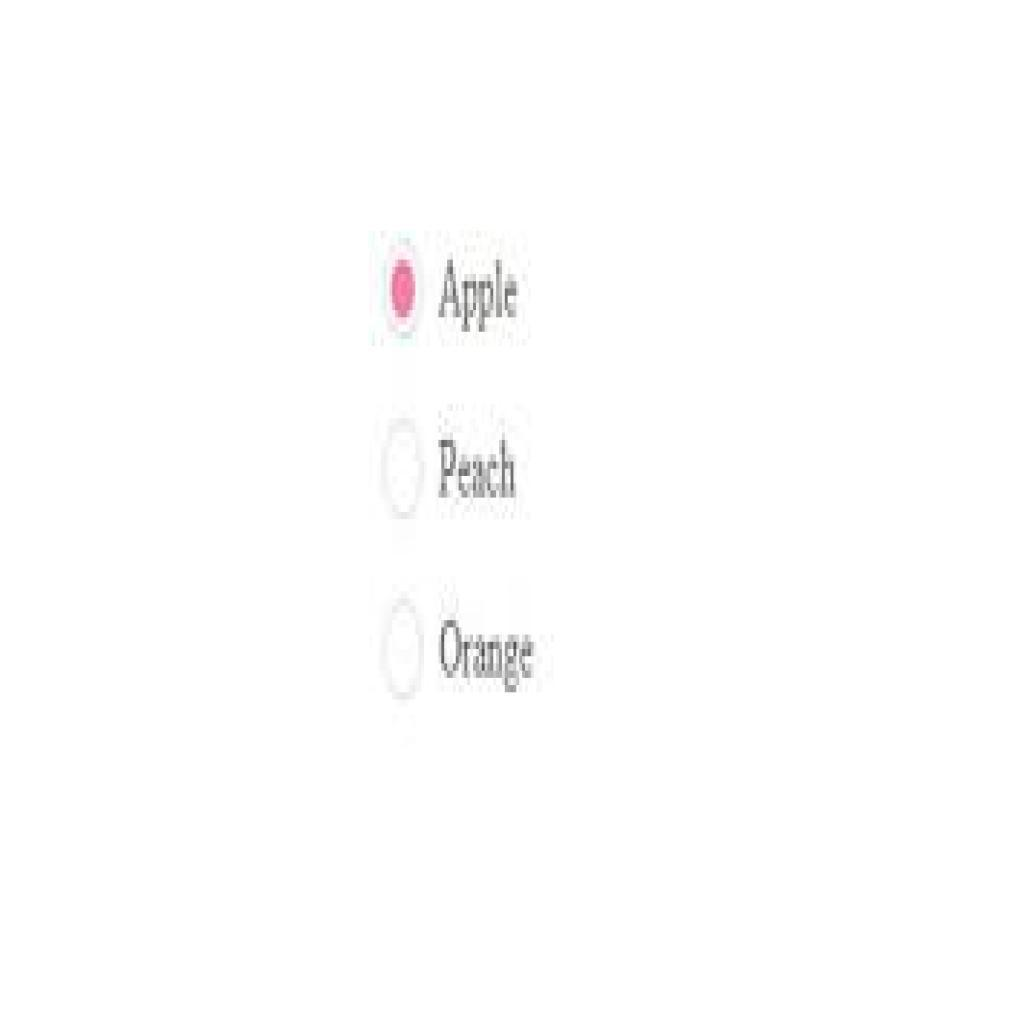radio: (376, 223, 429, 349), (375, 600, 430, 702), (378, 412, 432, 514)
